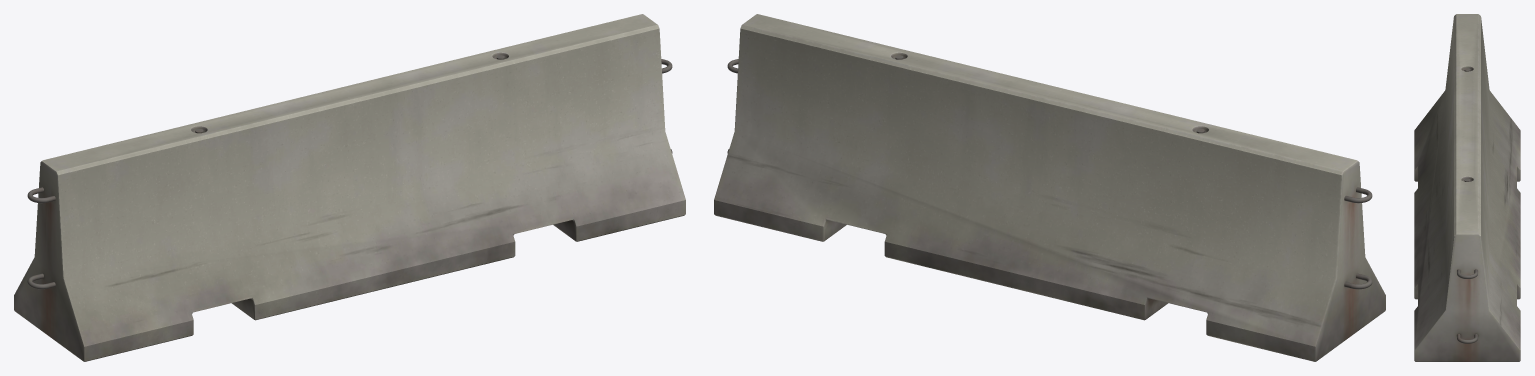
The model's file is jersey-barrier.glb.
3 views of the same model, side by side, from view 1: azimuth 30°, elevation 25°; view 2: azimuth 150°, elevation 25°; view 3: azimuth 270°, elevation 25° (orthographic). The views are drawn at different scales.
Parts seen in each view (by area): view 1: jersey-barrier_body; view 2: jersey-barrier_body; view 3: jersey-barrier_body.
Boxes of the visible parts, left/top/right/bottom form: jersey-barrier_body: left=14, top=14, right=685, bottom=361; jersey-barrier_body: left=714, top=14, right=1385, bottom=361; jersey-barrier_body: left=1414, top=14, right=1520, bottom=361.
Size of the model in its own units: 3.19 by 0.8129 by 0.6094.
1 material, 1 textured.
